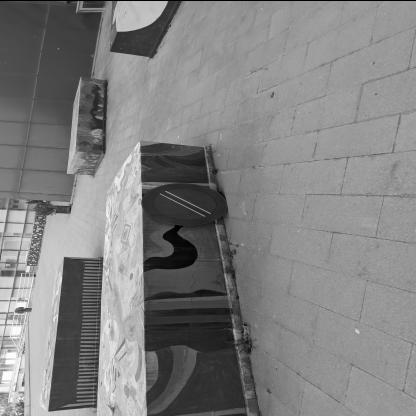No Waiting: (143, 184, 229, 226)
